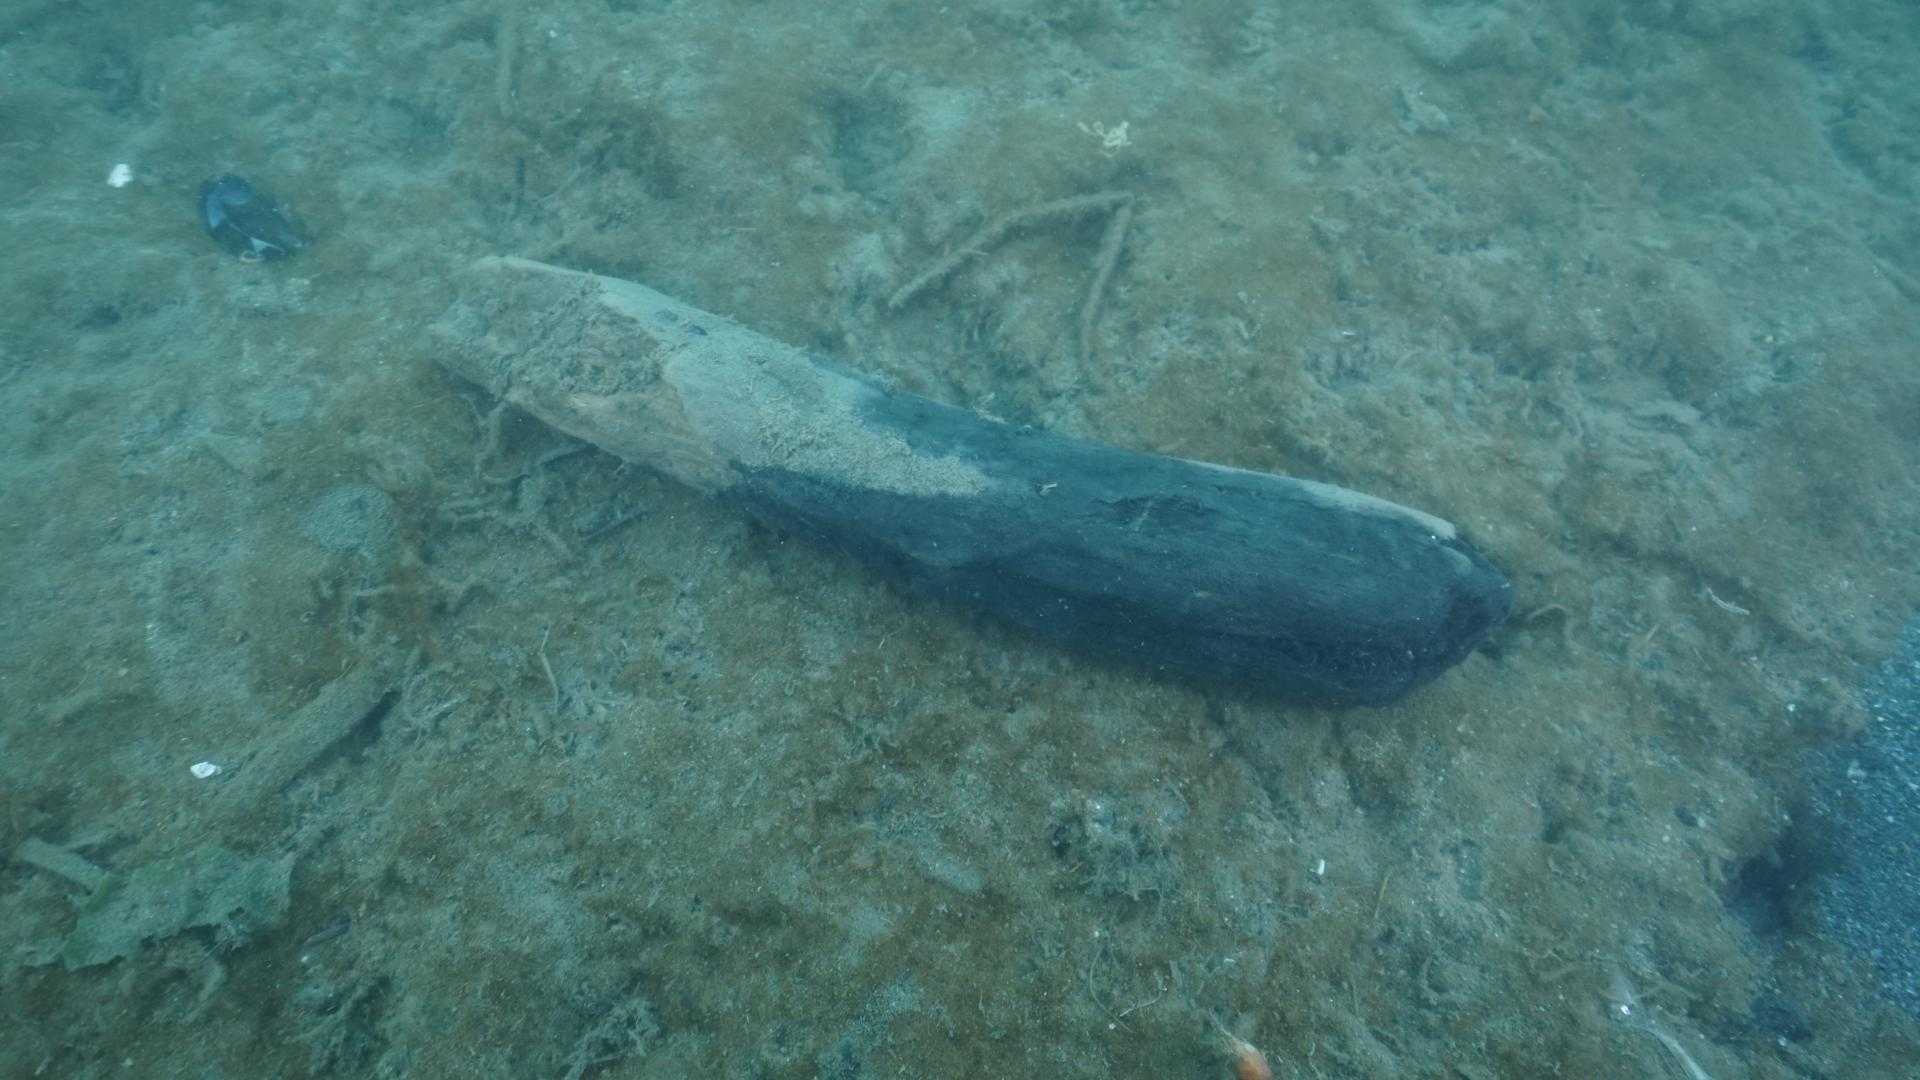wood: (404, 248, 1520, 713)
